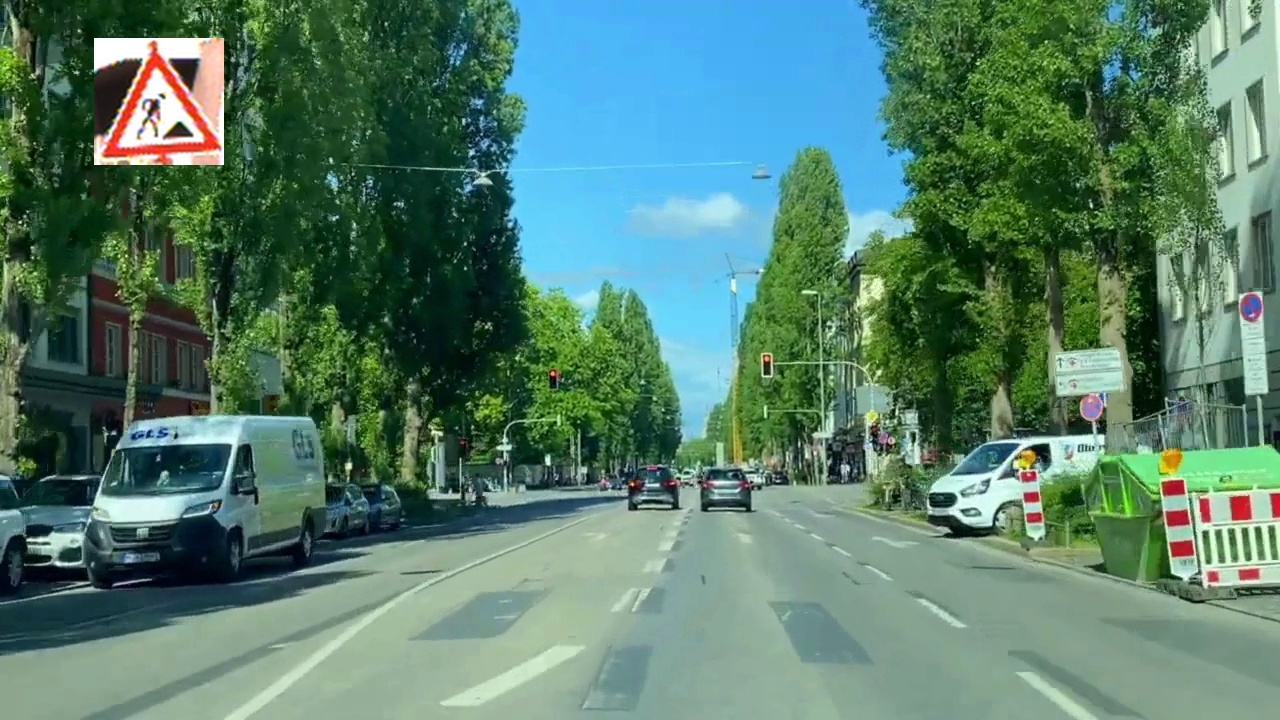Road work: (94, 38, 224, 165)
